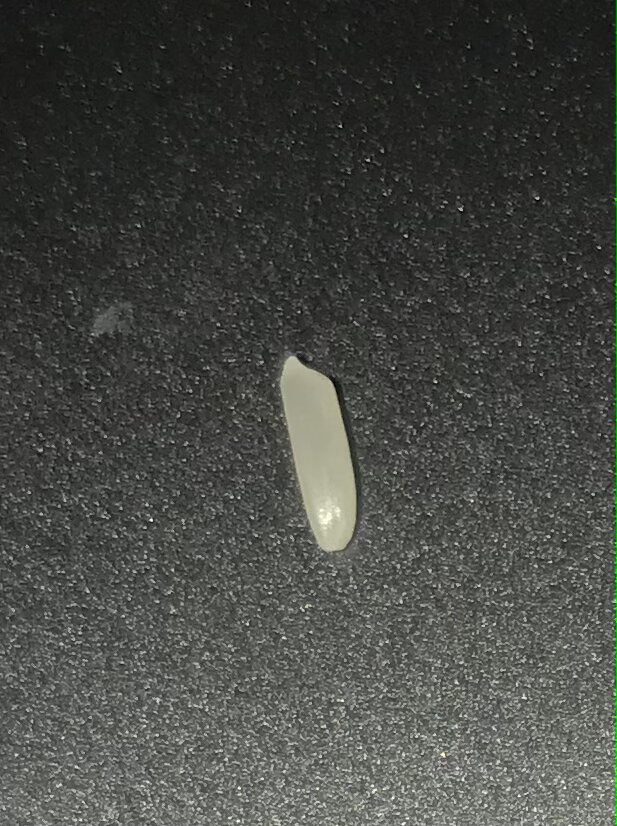Gao Long Lai: (250, 338, 381, 564)
